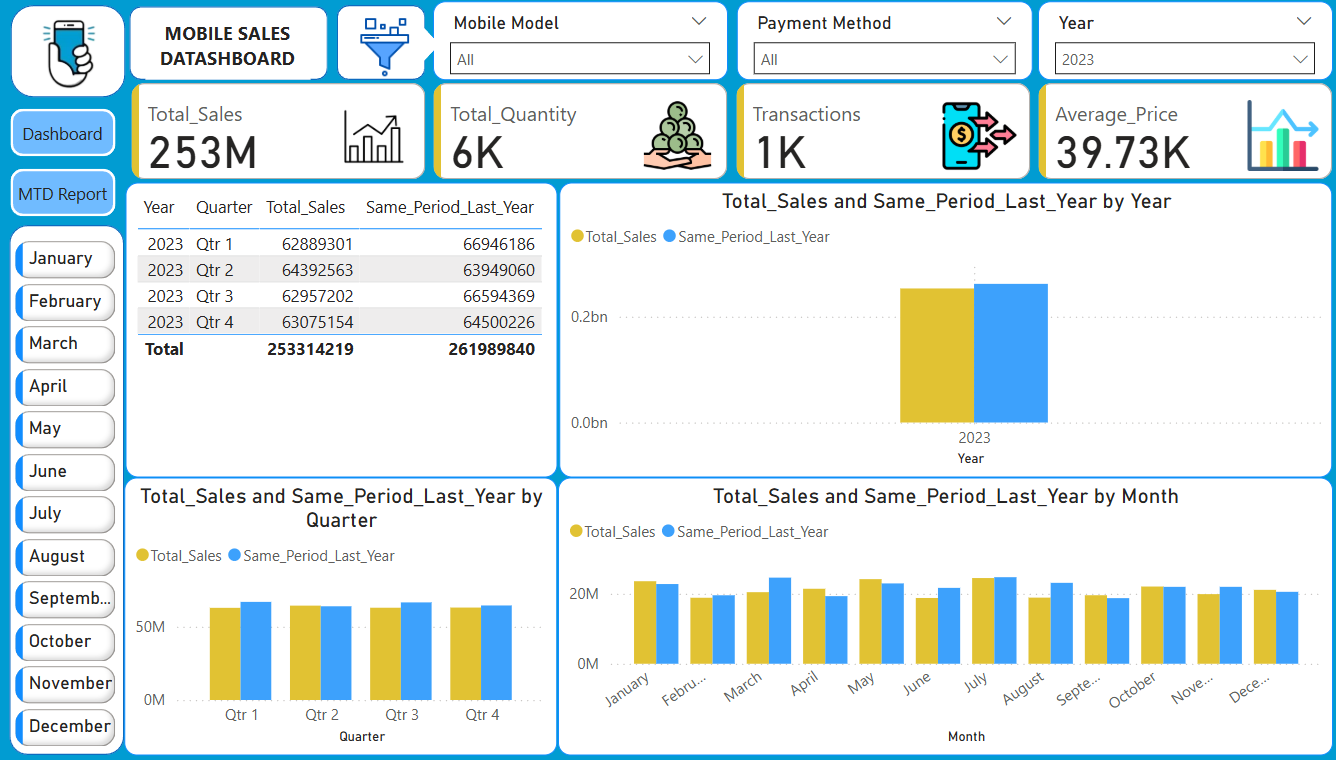

This screenshot's page, from the dashboard's own definition file:
{"tool":"powerbi","page":{"name":"Same Period Last Year","canvas":[1280,1000],"ordinal":2},"visuals":[{"type":"shape","box":[10,4,92,74],"z":0},{"type":"image","box":[18,9,76,67],"z":1000},{"type":"shape","box":[9,180,92,424],"z":2000},{"type":"cardVisual","fields":{"Data":["Sales_Data.Total_Sales","Sales_Data.Total_Quantity","Sales_Data.Transactions","Sales_Data.Average_Price"]},"box":[102,64,974,81],"z":3000},{"type":"slicer","fields":{"Values":["Sales_Data.Mobile Model"]},"box":[348,1,236,63],"z":4000},{"type":"slicer","fields":{"Values":["Custom_Calender.Date.Variation.Date Hierarchy.Year","Custom_Calender.Date.Variation.Date Hierarchy.Quarter","Custom_Calender.Date.Variation.Date Hierarchy.Month","Custom_Calender.Date.Variation.Date Hierarchy.Day"]},"box":[832.4,1.2,236,62.9],"z":5000},{"type":"slicer","fields":{"Values":["Sales_Data.Payment Method"]},"box":[591,1,237,63],"z":6000},{"type":"shape","box":[271,4,71,60],"z":7000},{"type":"shape","box":[315,15,38,41],"z":8000},{"type":"image","box":[271,9,77,58],"z":9000},{"type":"shape","box":[105,5,159,59],"z":10000},{"type":"textbox","box":[118,11,132,53],"z":11000},{"type":"advancedSlicerVisual","fields":{"Values":["Custom_Calender.Date.Variation.Date Hierarchy.Month"]},"box":[9,188,90,416],"z":12000},{"type":"tableEx","fields":{"Values":["Custom_Calender.Date.Variation.Date Hierarchy.Year","Custom_Calender.Date.Variation.Date Hierarchy.Quarter","Sales_Data.Total_Sales","Sales_Data.Same_Period_Last_Year"]},"box":[102,146,346,236],"z":14000},{"type":"clusteredColumnChart","fields":{"Category":["Custom_Calender.Date.Variation.Date Hierarchy.Year","Custom_Calender.Date.Variation.Date Hierarchy.Quarter"],"Y":["Sales_Data.Total_Sales","Sales_Data.Same_Period_Last_Year"]},"box":[449,146,619,236],"z":15000},{"type":"clusteredColumnChart","fields":{"Category":["Custom_Calender.Date.Variation.Date Hierarchy.Year","Custom_Calender.Date.Variation.Date Hierarchy.Quarter"],"Y":["Sales_Data.Total_Sales","Sales_Data.Same_Period_Last_Year"]},"box":[101,382,347,222],"z":16000},{"type":"clusteredColumnChart","fields":{"Y":["Sales_Data.Total_Sales","Sales_Data.Same_Period_Last_Year"],"Category":["Custom_Calender.Date.Variation.Date Hierarchy.Year","Custom_Calender.Date.Variation.Date Hierarchy.Quarter","Custom_Calender.Date.Variation.Date Hierarchy.Month","Custom_Calender.Date.Variation.Date Hierarchy.Day"]},"box":[448,382,620,222],"z":17000},{"type":"pageNavigator","box":[10,87,84,86],"z":18000}]}

Visuals, with their boxes on the page's 1280x1000 design canvas (x1, y1, x2, y2). These are canvas units, not pixel positions in the 1336x760 screenshot, which may show the page scaled, cropped or inside an application window:
shape: bbox=(10, 4, 102, 78)
image: bbox=(18, 9, 94, 76)
shape: bbox=(9, 180, 101, 604)
cardVisual - Sales_Data.Total_Sales x Sales_Data.Total_Quantity: bbox=(102, 64, 1076, 145)
slicer - Sales_Data.Mobile Model: bbox=(348, 1, 584, 64)
slicer - Custom_Calender.Date.Variation.Date Hierarchy.Year x Custom_Calender.Date.Variation.Date Hierarchy.Quarter: bbox=(832, 1, 1068, 64)
slicer - Sales_Data.Payment Method: bbox=(591, 1, 828, 64)
shape: bbox=(271, 4, 342, 64)
shape: bbox=(315, 15, 353, 56)
image: bbox=(271, 9, 348, 67)
shape: bbox=(105, 5, 264, 64)
textbox: bbox=(118, 11, 250, 64)
advancedSlicerVisual - Custom_Calender.Date.Variation.Date Hierarchy.Month: bbox=(9, 188, 99, 604)
tableEx - Custom_Calender.Date.Variation.Date Hierarchy.Year x Custom_Calender.Date.Variation.Date Hierarchy.Quarter: bbox=(102, 146, 448, 382)
clusteredColumnChart - Custom_Calender.Date.Variation.Date Hierarchy.Year x Custom_Calender.Date.Variation.Date Hierarchy.Quarter: bbox=(449, 146, 1068, 382)
clusteredColumnChart - Custom_Calender.Date.Variation.Date Hierarchy.Year x Custom_Calender.Date.Variation.Date Hierarchy.Quarter: bbox=(101, 382, 448, 604)
clusteredColumnChart - Sales_Data.Total_Sales x Sales_Data.Same_Period_Last_Year: bbox=(448, 382, 1068, 604)
pageNavigator: bbox=(10, 87, 94, 173)
